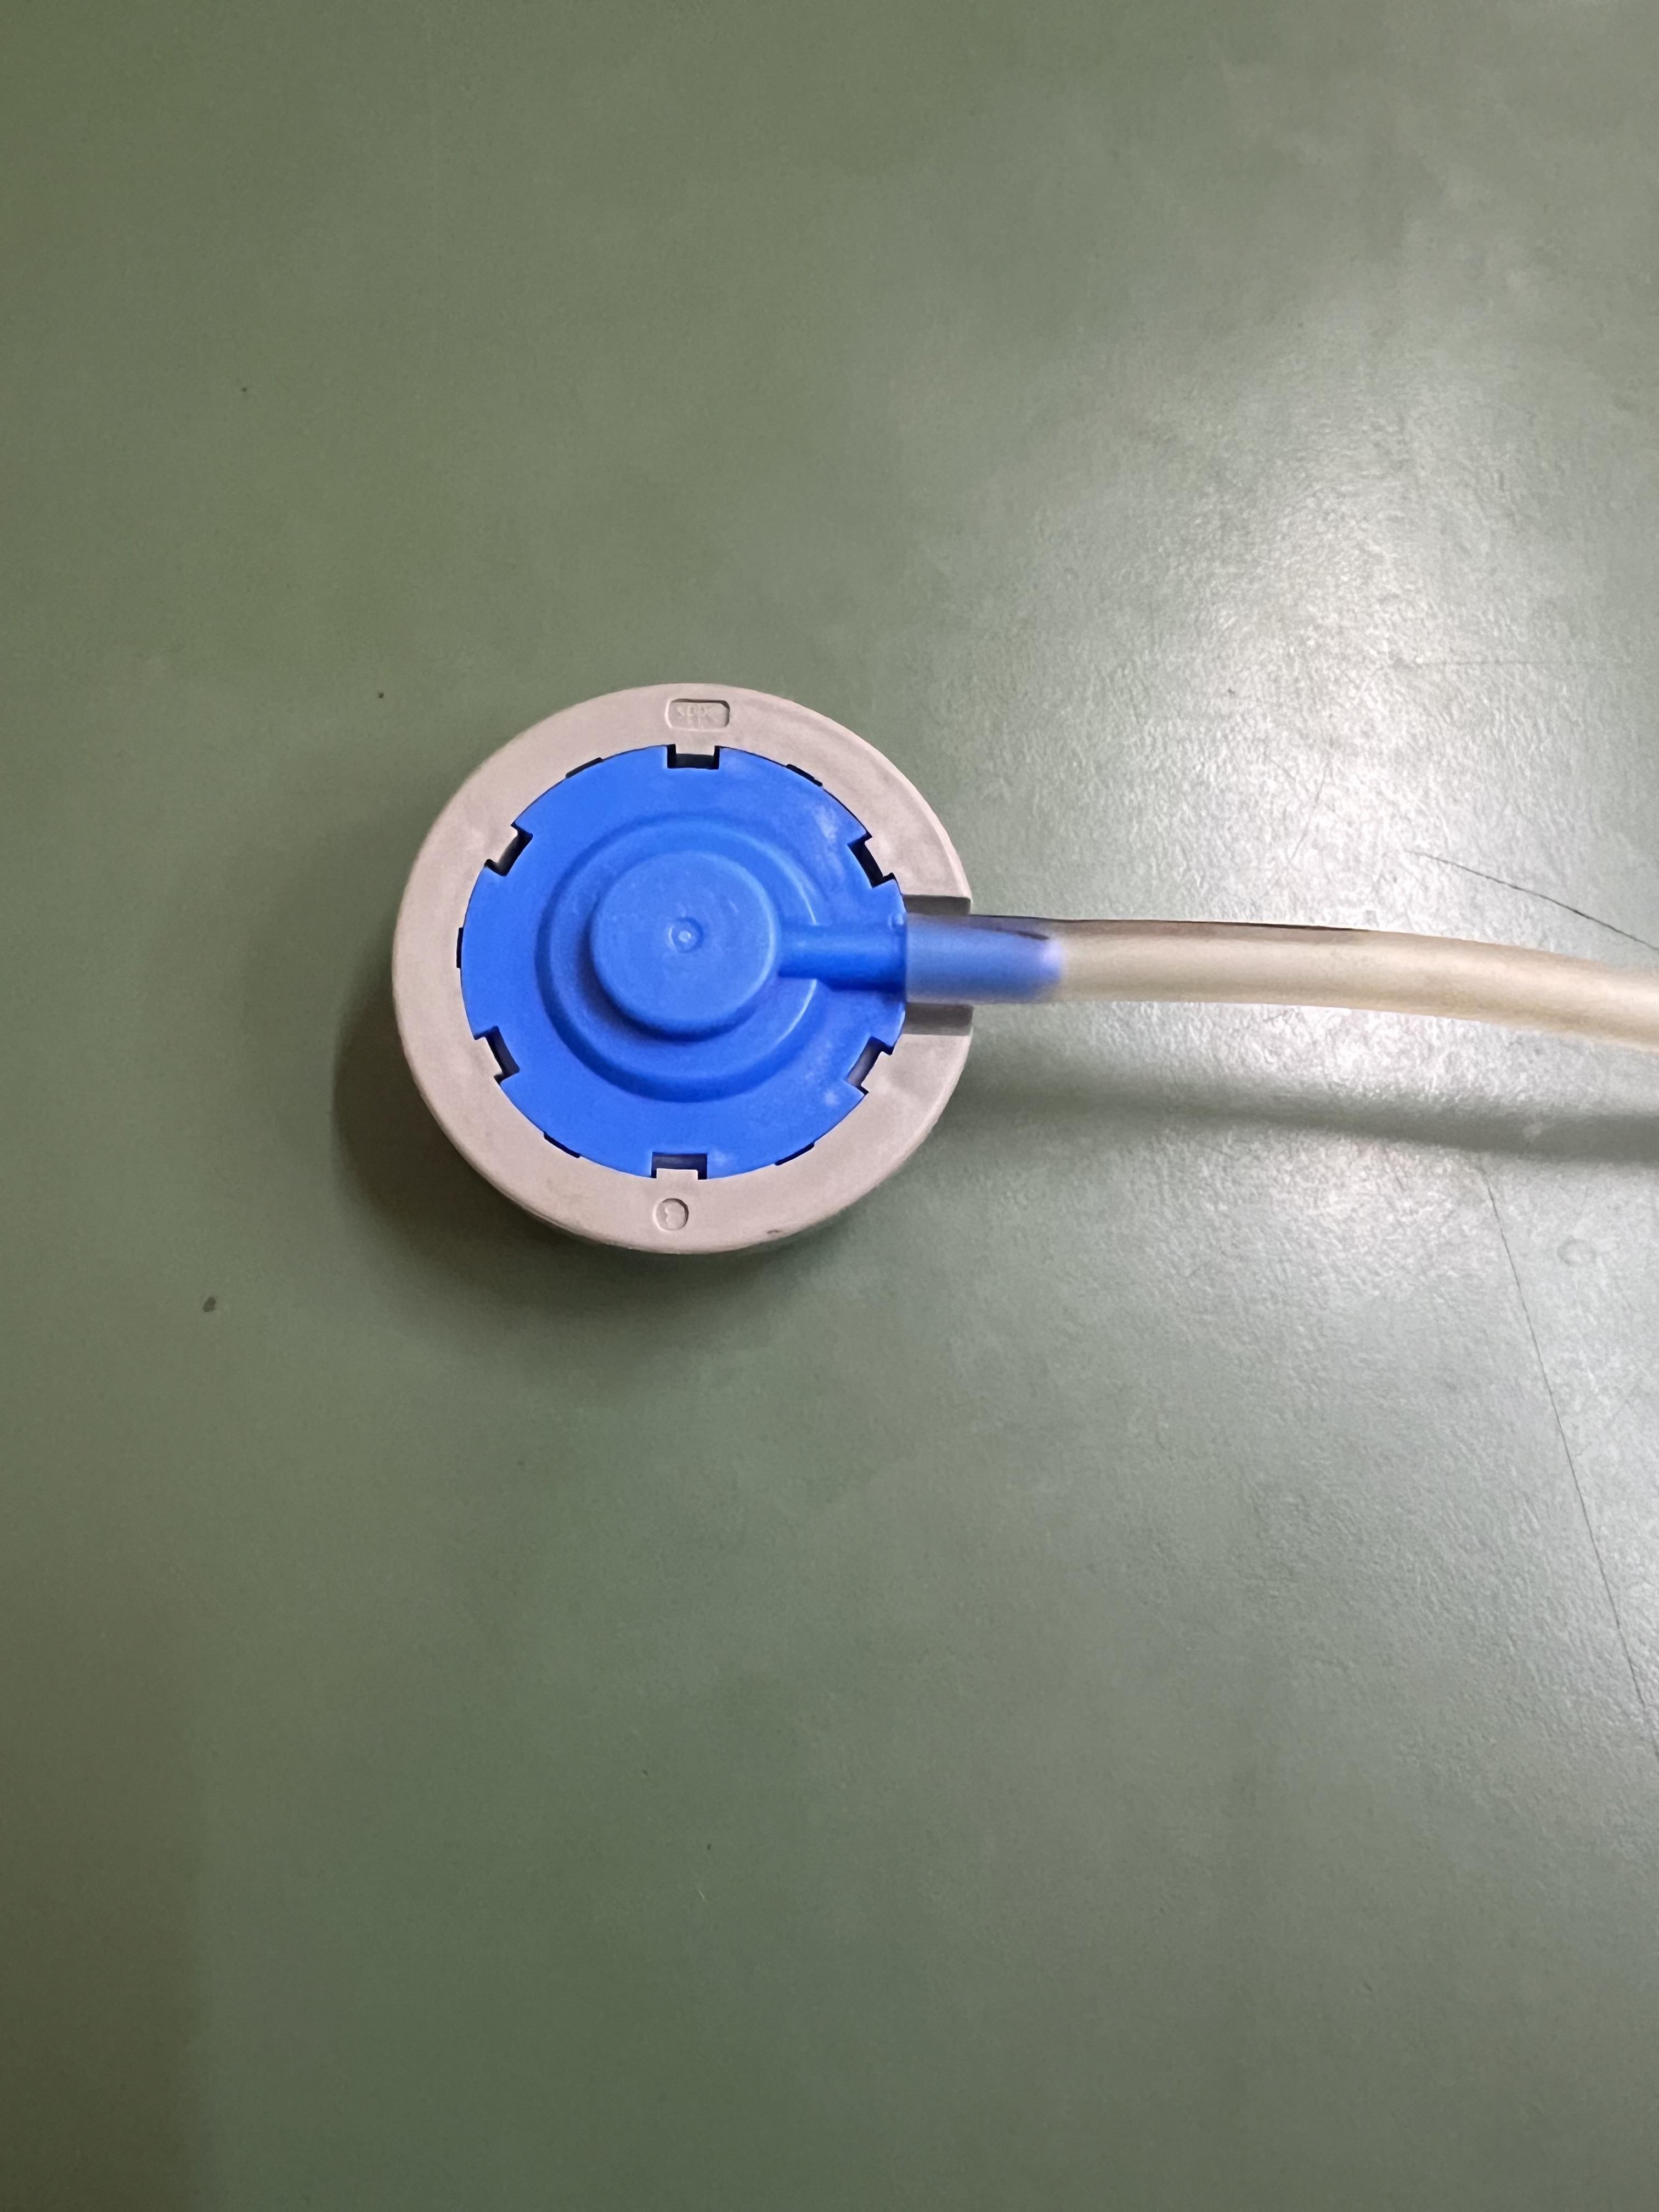pressure_sensor: (399, 660, 1012, 1287)
